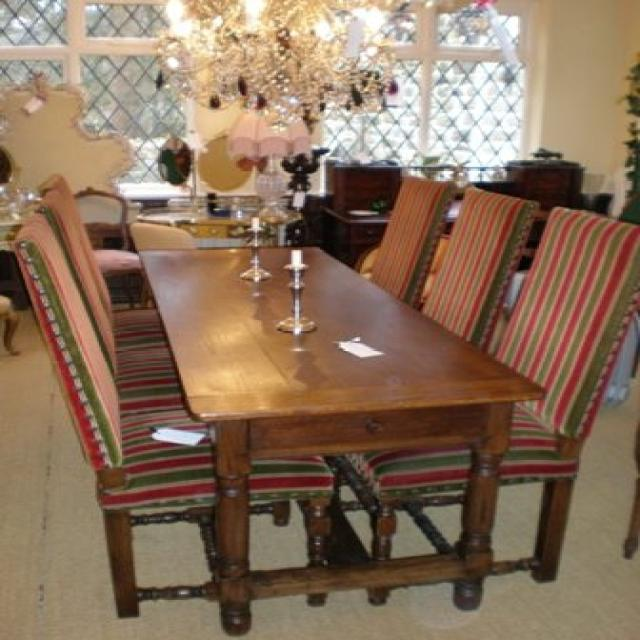table: (140, 246, 546, 636)
